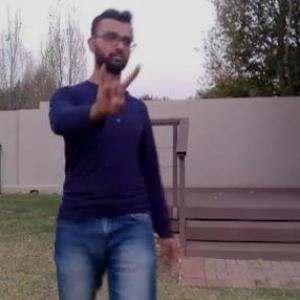takeoff-hand: (89, 54, 144, 116)
